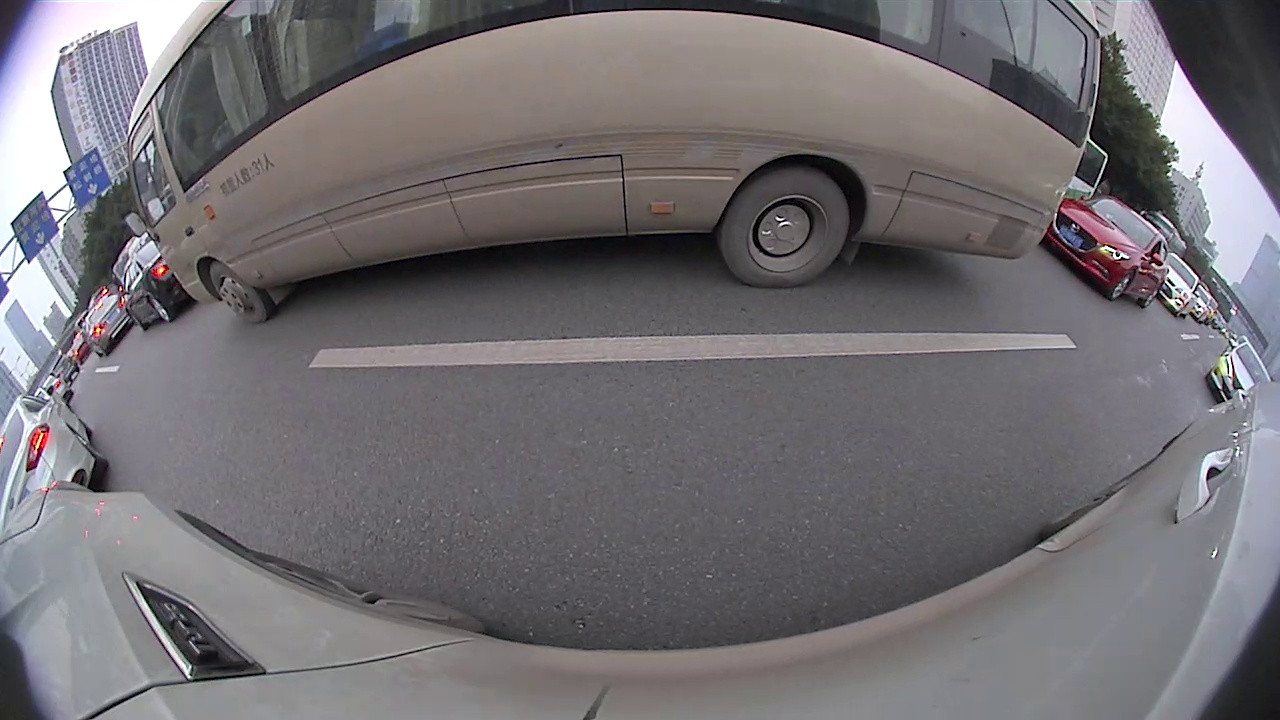bus: (129, 1, 1104, 322)
car: (1, 396, 105, 525), (1047, 198, 1166, 305), (122, 238, 187, 328), (1206, 341, 1278, 402), (78, 294, 135, 353), (1156, 254, 1199, 315)
front: (209, 262, 270, 321), (1109, 270, 1134, 296), (128, 311, 146, 329)
rear: (717, 161, 850, 287), (150, 296, 170, 321), (1141, 287, 1158, 307)
